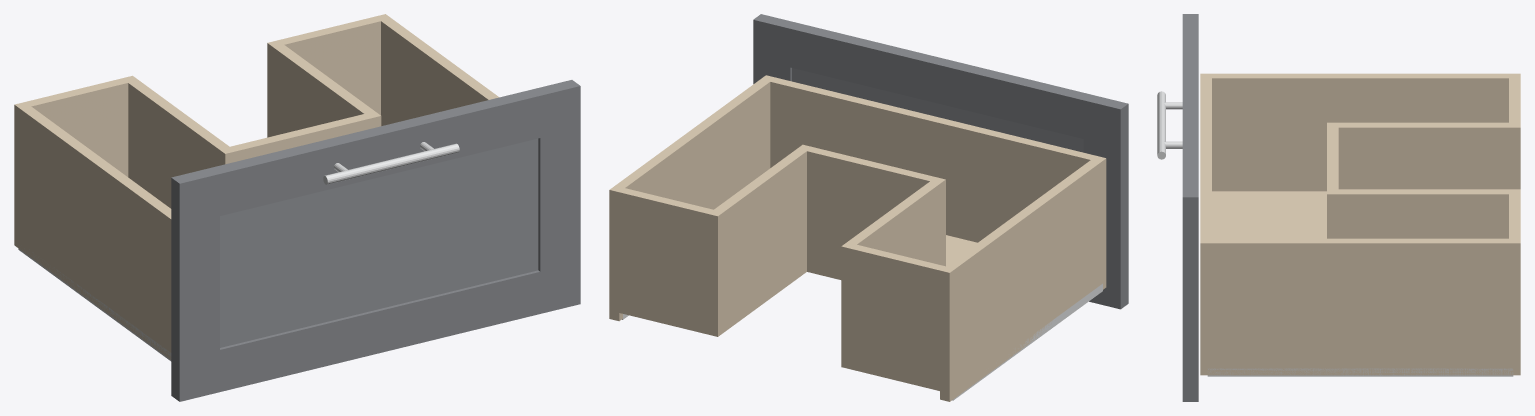
The model's file is skuff_K2_2.glb.
3 views of the same model, side by side, from view 1: azimuth 30°, elevation 25°; view 2: azimuth 150°, elevation 25°; view 3: azimuth 270°, elevation 25° (orthographic). The views are drawn at different scales.
Size of the model in its own units: 596 by 310 by 499.
